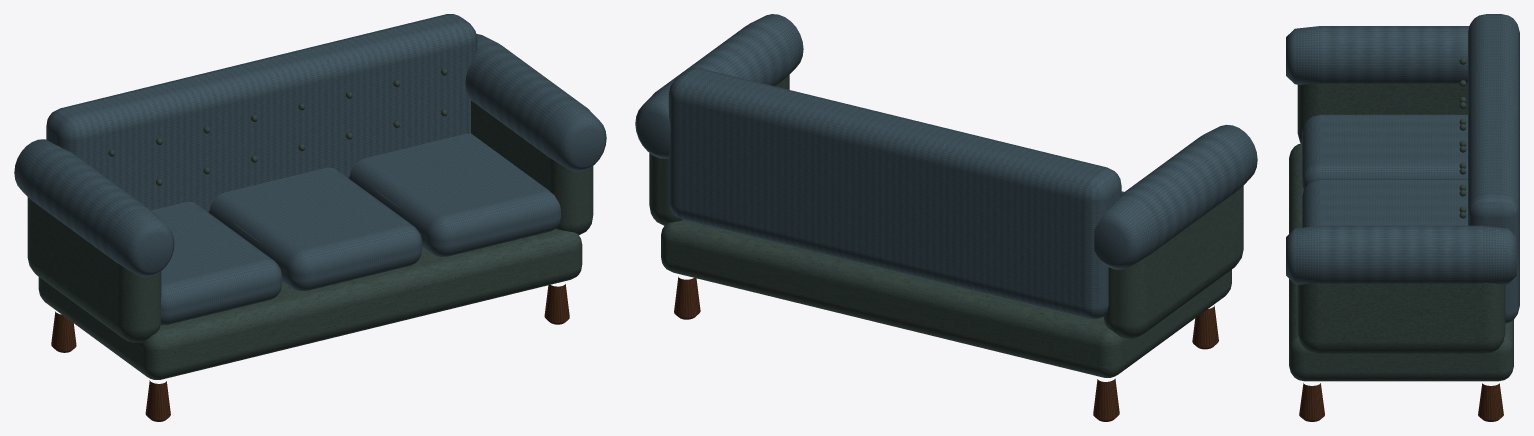
File: sofa.glb
3 views of the same model, side by side, from view 1: azimuth 30°, elevation 25°; view 2: azimuth 150°, elevation 25°; view 3: azimuth 270°, elevation 25° (orthographic). The views are drawn at different scales.
Visible parts, largest first — view 1: sofa; view 2: sofa; view 3: sofa.
Boxes of the visible parts, box(x1,y1,x2,y2) form: sofa: box(14, 14, 606, 421); sofa: box(635, 14, 1257, 421); sofa: box(1286, 14, 1519, 421).
Size of the model in its own units: 1.95 by 0.9 by 0.86.
3 materials, 3 textured.
